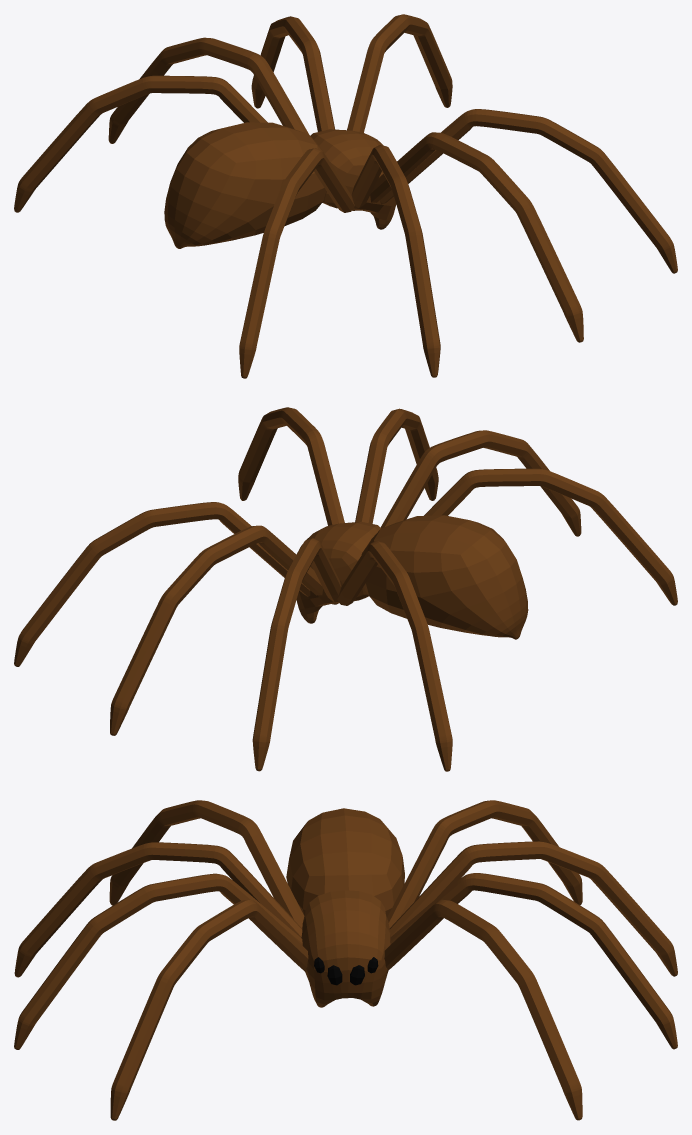
The model's file is spider_cute.fbx.
3 renders of one model, top to bottom at view 1: azimuth 30°, elevation 25°; view 2: azimuth 150°, elevation 25°; view 3: azimuth 270°, elevation 25°, orthographic. The views are drawn at different scales.
Parts seen in each view (by area): view 1: Cube.001, LEG.007, LEG.005, LEG.002, LEG.004, LEG.006, LEG, LEG.003, LEG.001, Cube; view 2: Cube.001, LEG.001, LEG.003, LEG.004, LEG.002, LEG, LEG.006, LEG.005, LEG.007, Cube; view 3: Cube.001, Cube, LEG.006, LEG.005, LEG.003, LEG, LEG.001, LEG.007, LEG.004, LEG.002.
Boxes of the visible parts, left/top/right/bottom form: Cube.001: left=164, top=122, right=328, bottom=248; LEG.007: left=370, top=132, right=583, bottom=342; LEG.005: left=380, top=109, right=677, bottom=273; LEG.002: left=14, top=75, right=267, bottom=212; LEG.004: left=239, top=148, right=354, bottom=378; LEG.006: left=351, top=145, right=440, bottom=377; LEG: left=108, top=37, right=308, bottom=143; LEG.003: left=347, top=14, right=452, bottom=132; LEG.001: left=251, top=16, right=335, bottom=131; Cube: left=310, top=129, right=396, bottom=229; Cube.001: left=361, top=515, right=528, bottom=639; LEG.001: left=110, top=525, right=323, bottom=735; LEG.003: left=14, top=502, right=310, bottom=666; LEG.004: left=424, top=468, right=677, bottom=605; LEG.002: left=337, top=541, right=452, bottom=771; LEG: left=252, top=538, right=341, bottom=771; LEG.006: left=380, top=430, right=581, bottom=536; LEG.005: left=238, top=407, right=344, bottom=525; LEG.007: left=355, top=408, right=438, bottom=523; Cube: left=296, top=521, right=380, bottom=623; Cube.001: left=286, top=808, right=404, bottom=917; Cube: left=301, top=890, right=390, bottom=1007; LEG.006: left=14, top=842, right=302, bottom=977; LEG.005: left=110, top=900, right=308, bottom=1120; LEG.003: left=384, top=899, right=582, bottom=1120; LEG: left=389, top=841, right=677, bottom=976; LEG.001: left=390, top=873, right=677, bottom=1049; LEG.007: left=14, top=873, right=302, bottom=1049; LEG.004: left=109, top=800, right=304, bottom=927; LEG.002: left=387, top=800, right=582, bottom=927.
Size of the model in its own units: 114 by 37.36 by 147.
